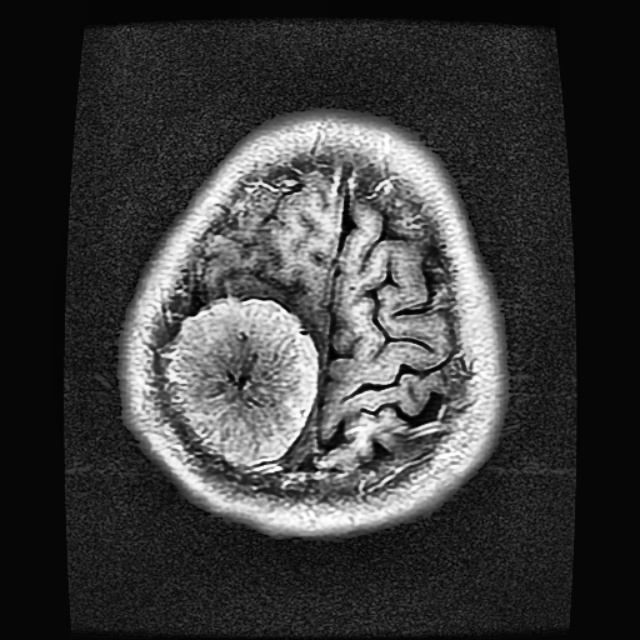Pituitary: (162, 297, 317, 464)
